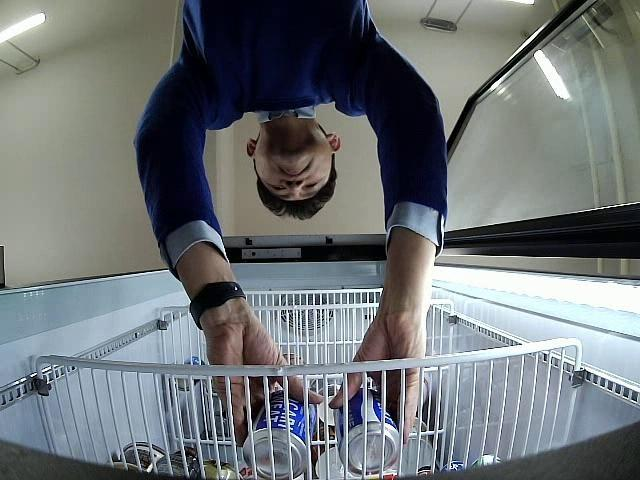13_pocariSweat: (244, 391, 317, 479), (334, 388, 401, 476)
